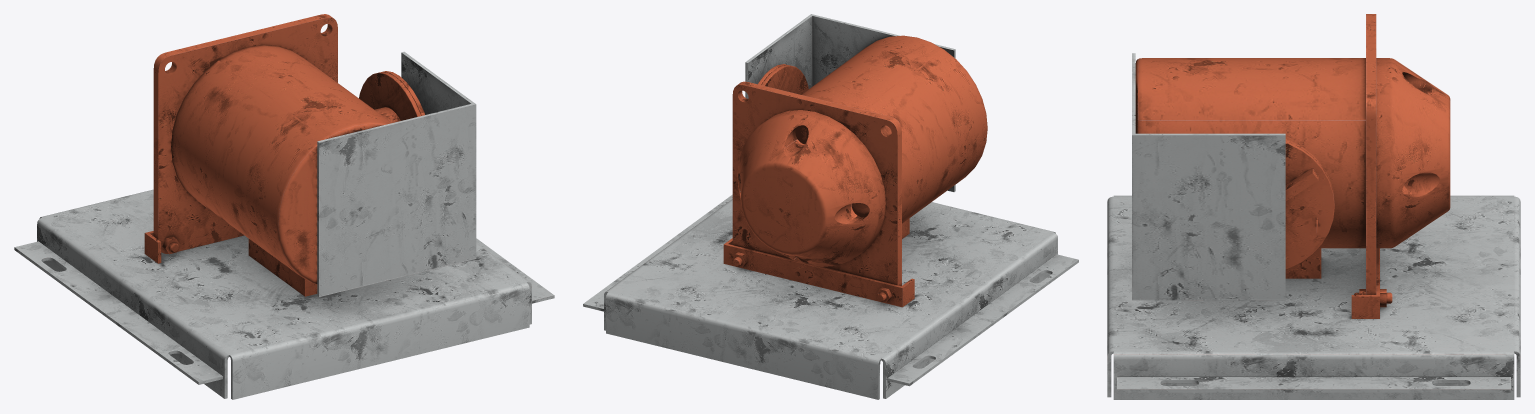
The model's file is dianji.FBX.
3 renders of one model, left to right at view 1: azimuth 30°, elevation 25°; view 2: azimuth 150°, elevation 25°; view 3: azimuth 270°, elevation 25°, orthographic. The views are drawn at different scales.
Parts seen in each view (by area): view 1: 对象002; view 2: 对象002; view 3: 对象002.
Part boxes in pixels (x1,y1,x2,y2): 对象002: (14,14,554,399); 对象002: (583,14,1078,399); 对象002: (1107,14,1520,399).
Size of the model in its own units: 68.67 by 44.47 by 64.68.
